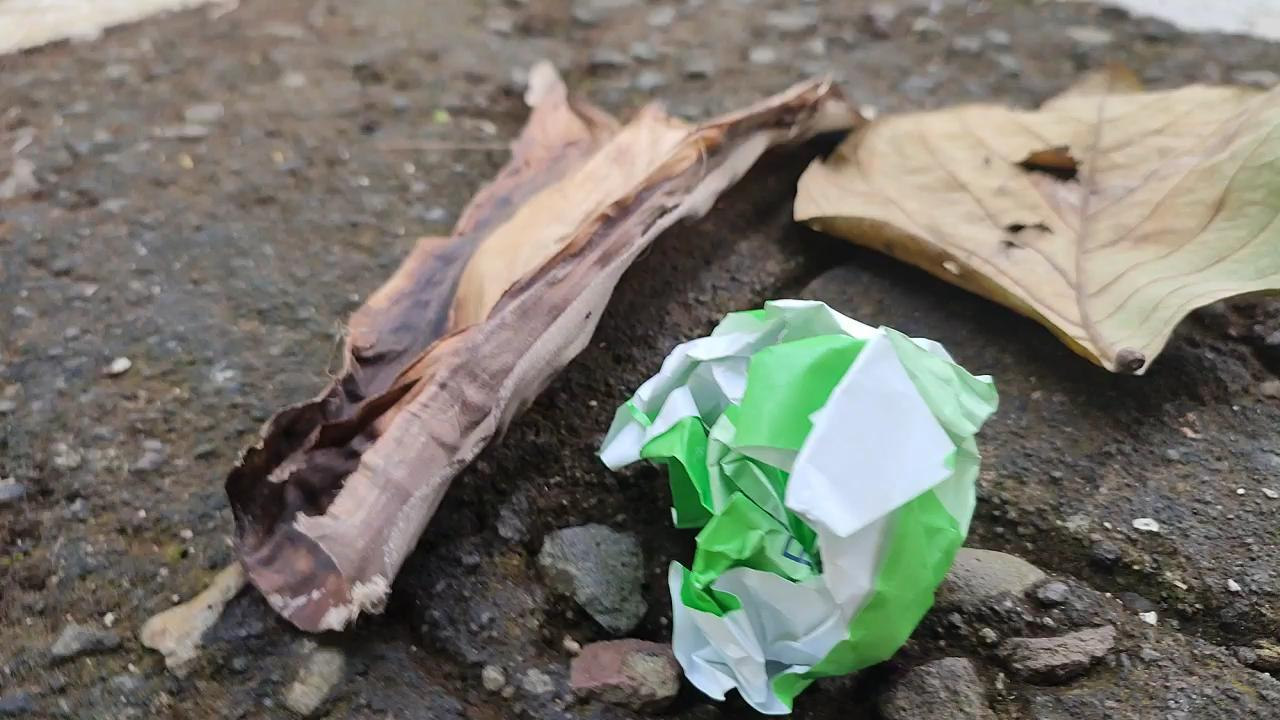Paper: (586, 285, 1018, 720)
